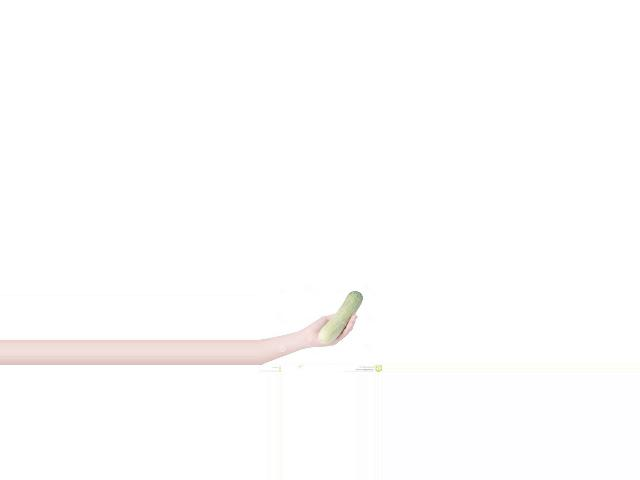cucumber: (318, 291, 361, 344)
